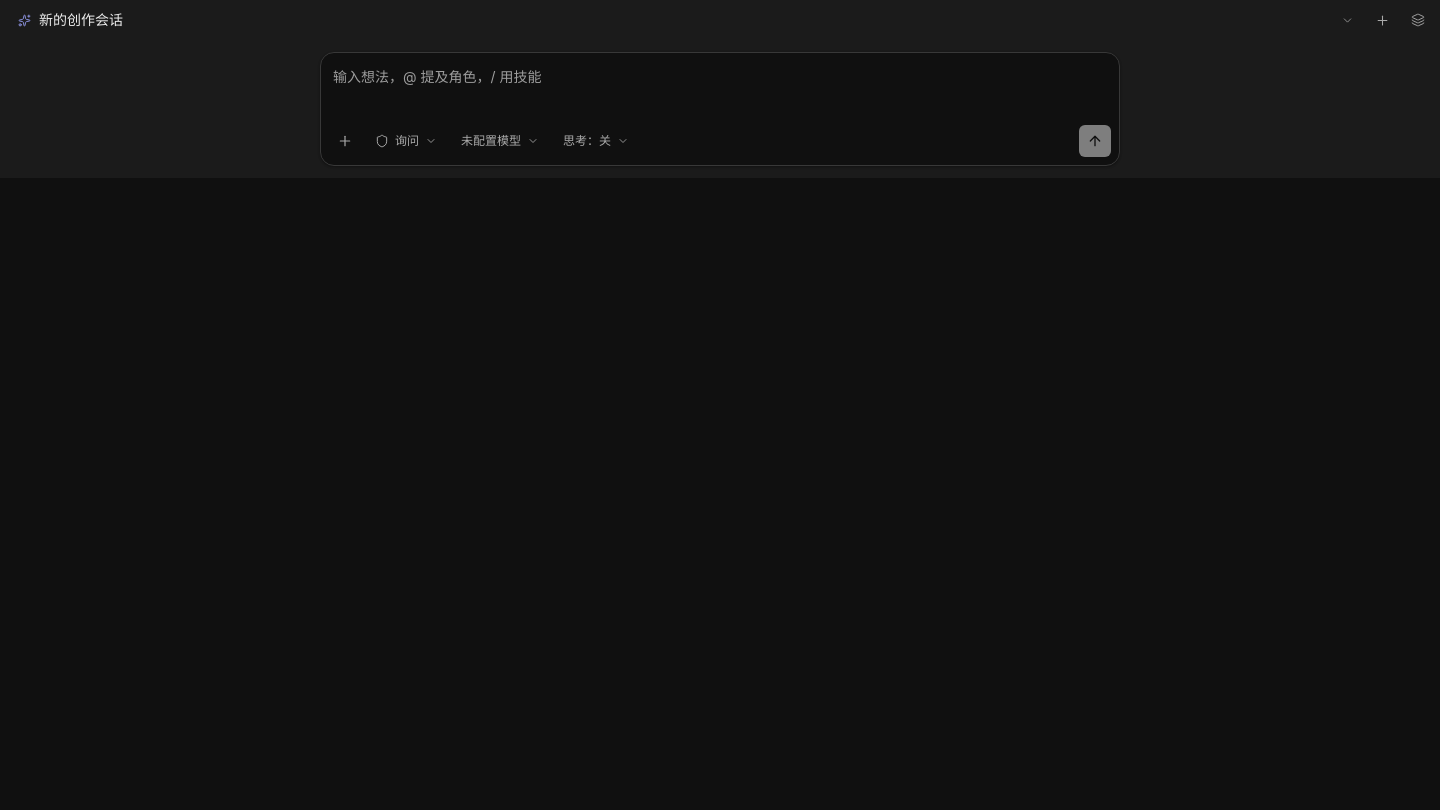
Test: 对话头的「上下文」按钮弹出小浮窗，不插进对话；再点、点外面、Esc 都收起
Step 1. Click the button named "上下文" → (1418, 20), box [1404,6,1432,34]
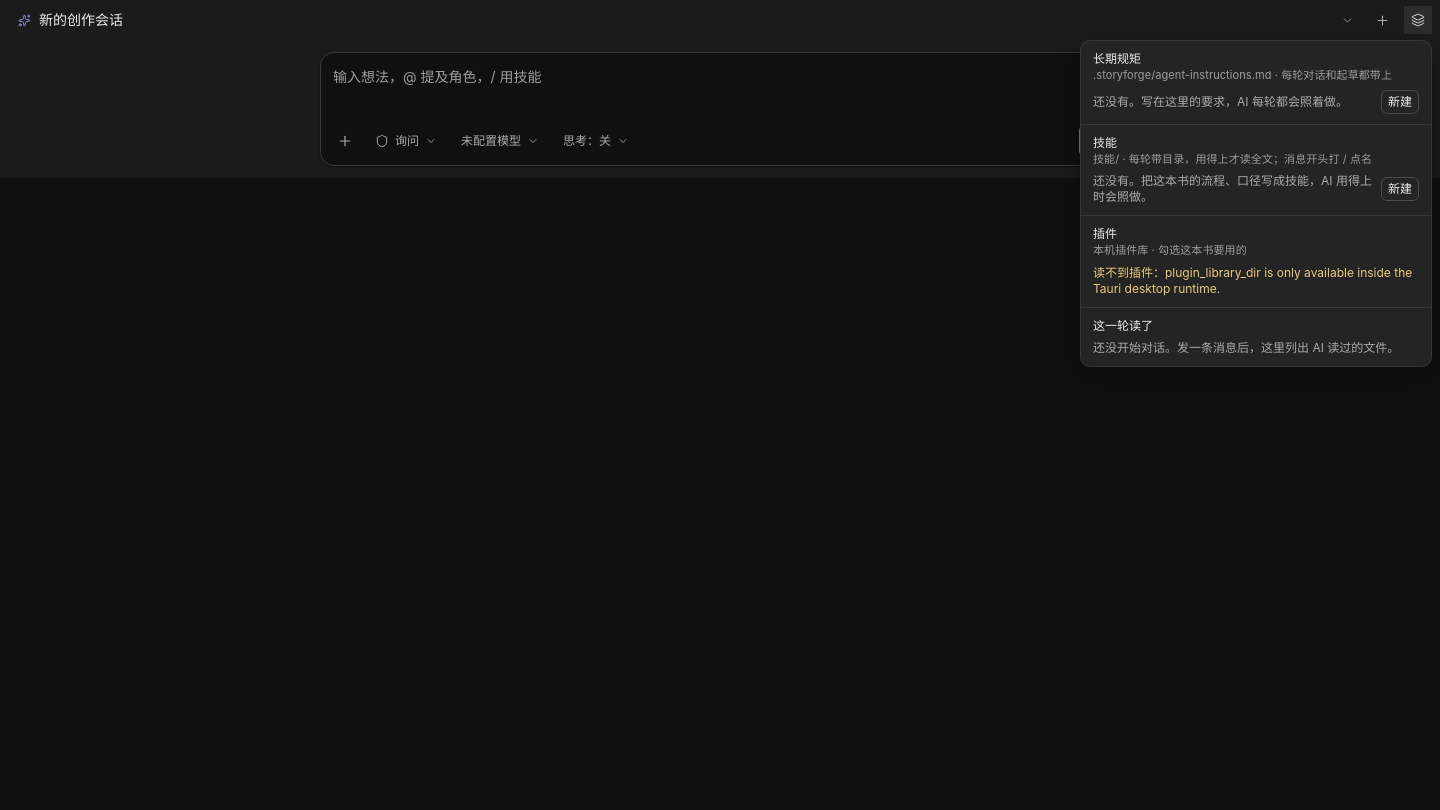
Now the text with test id "context-run-reads-empty" shows "还没开始对话", box [1093,340,1399,354]
Step 2. Click the button named "收起上下文" → (1418, 20), box [1404,6,1432,34]
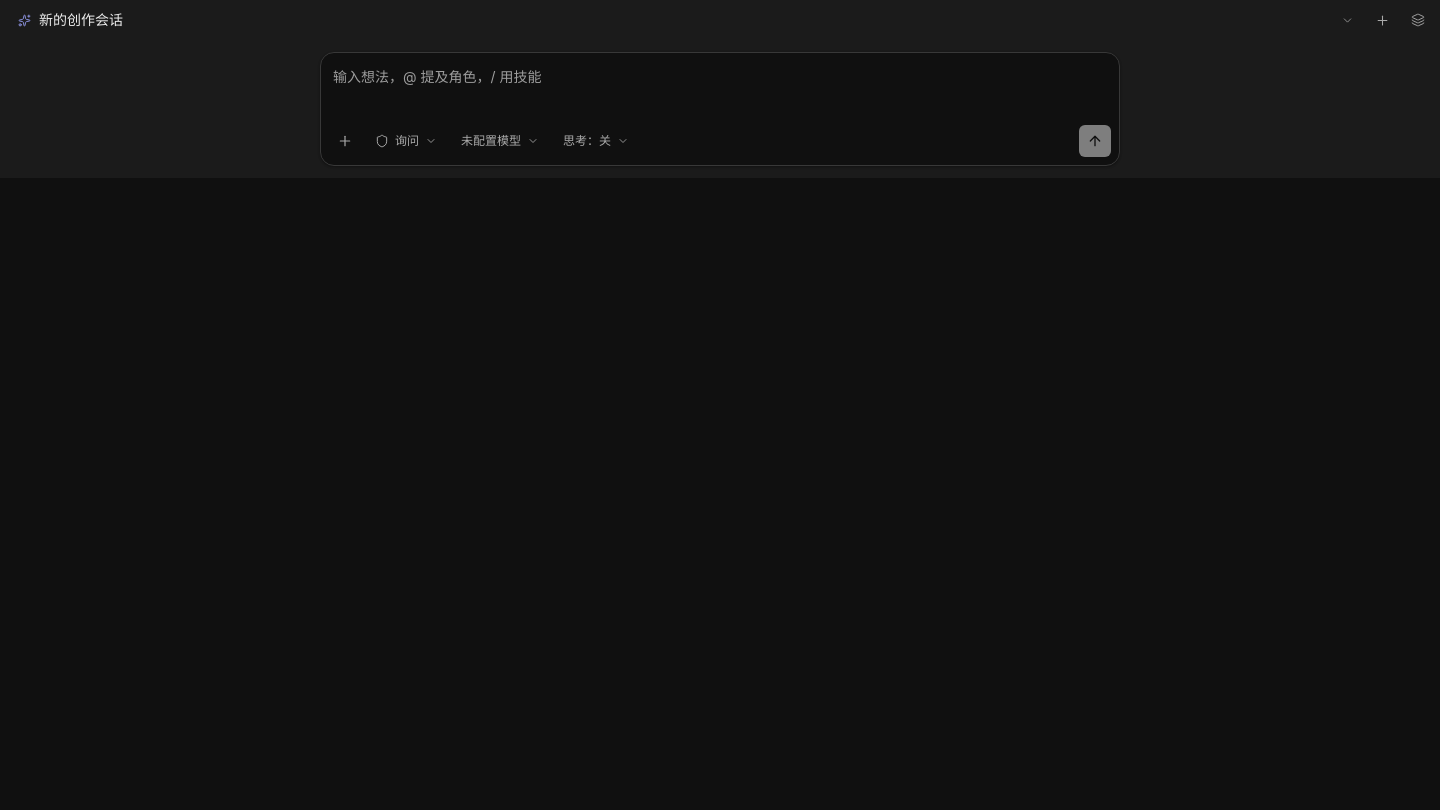
Now the element with test id "context-panel" is gone
Step 3. Click the button named "上下文" → (1418, 20), box [1404,6,1432,34]
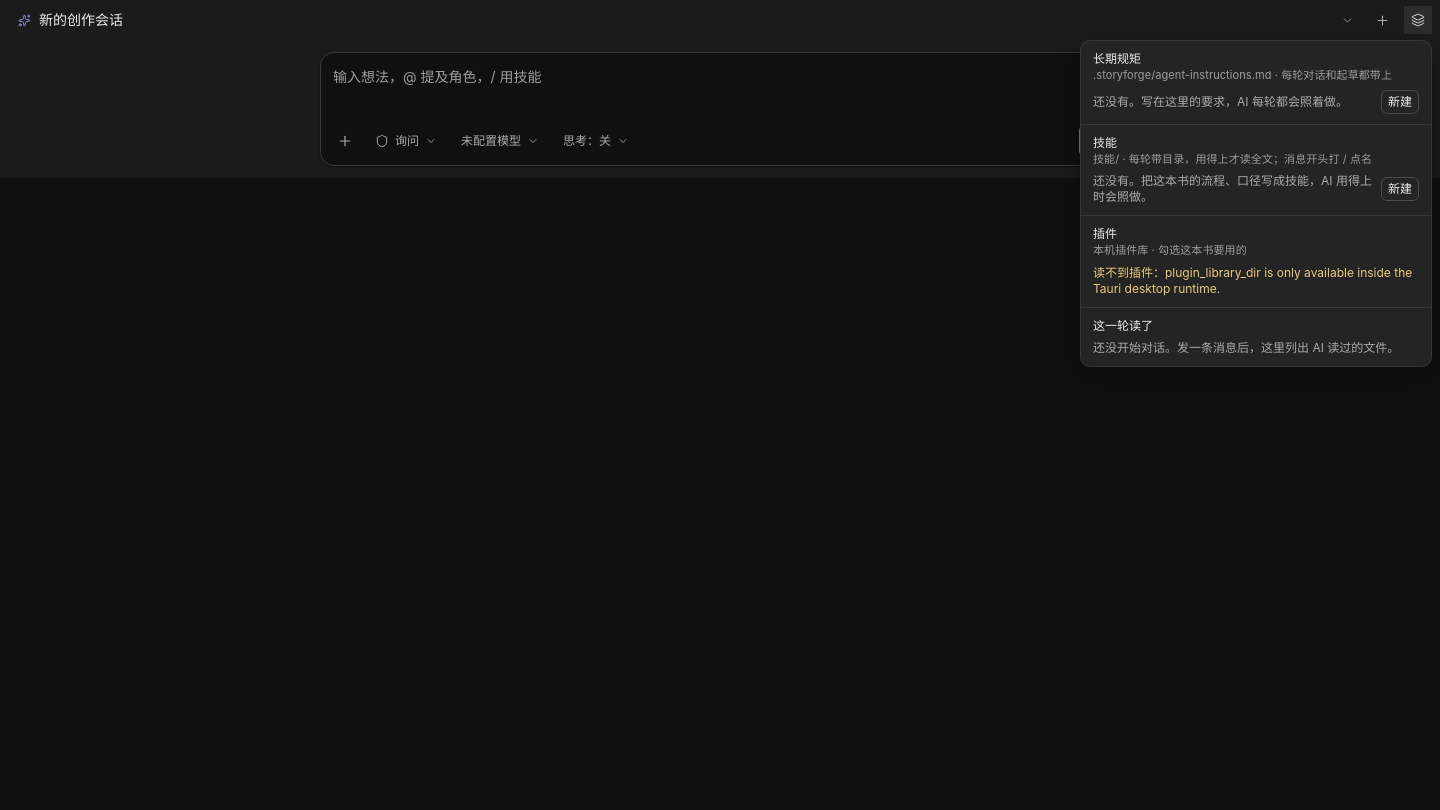
Step 4. Press the mouse on the element showing "新的创作会话 询问 未配置模型 思考：关" → (720, 89), box [0,0,1439,178]
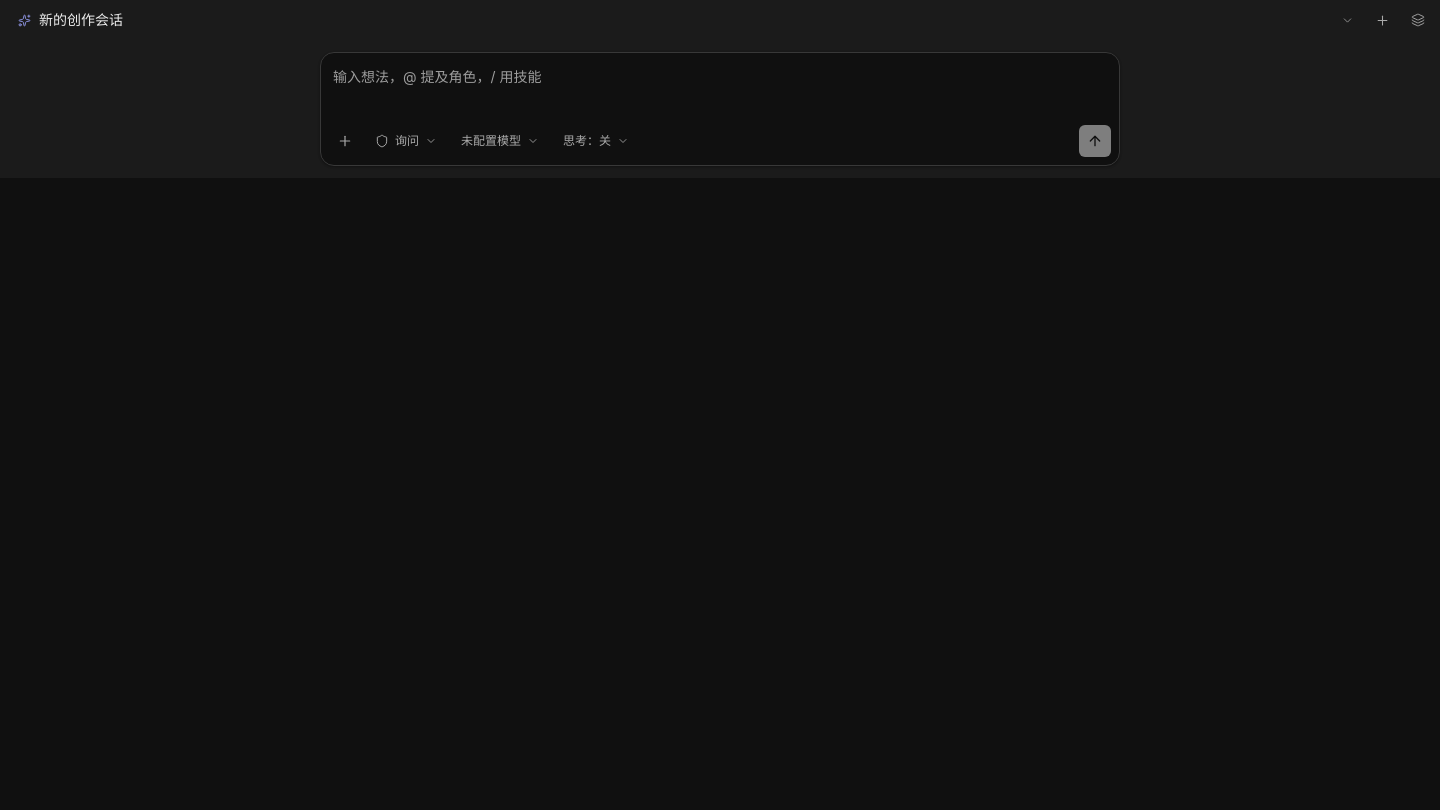
Now the element with test id "context-panel" is gone
Step 5. Click the button named "上下文" → (1418, 20), box [1404,6,1432,34]
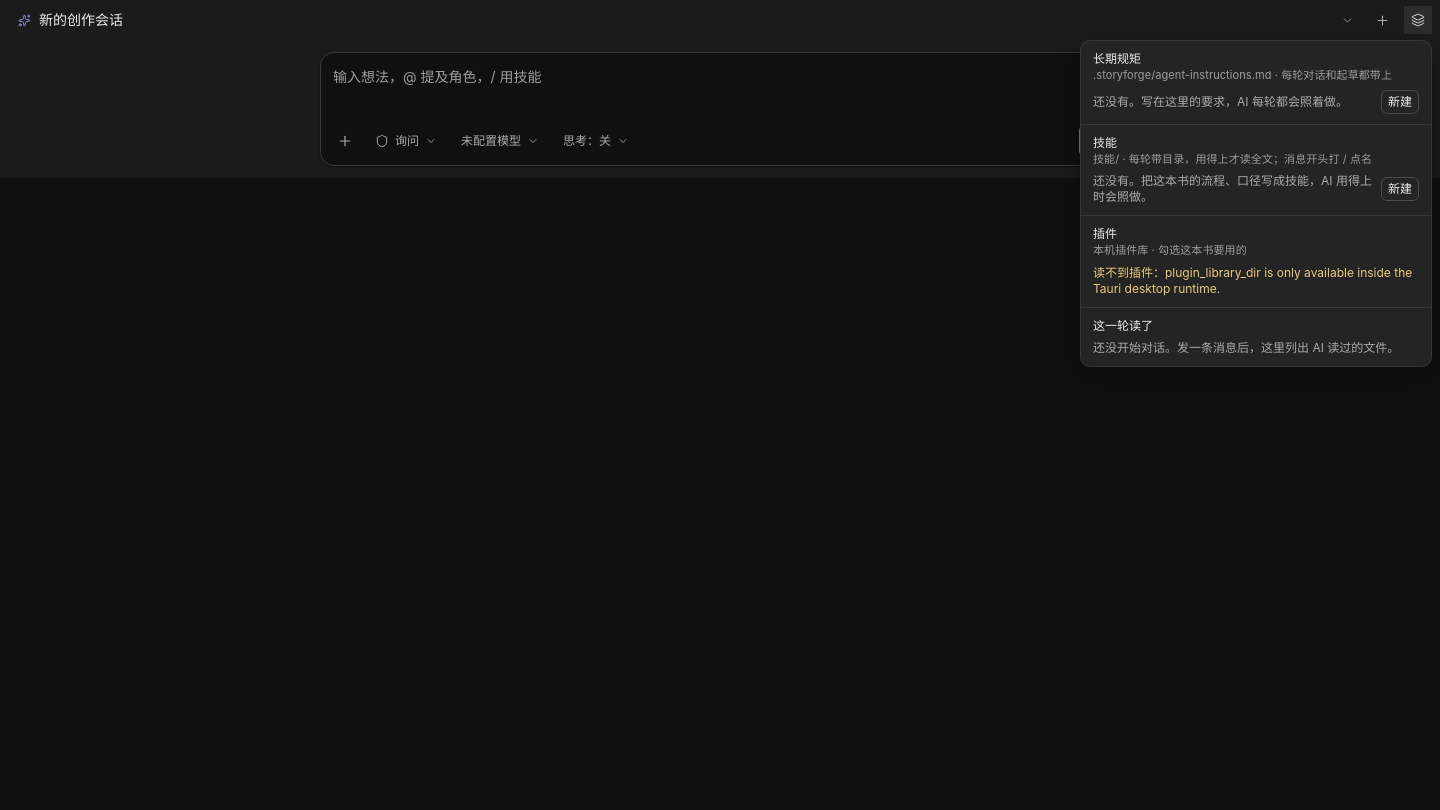
Step 6. Press Escape
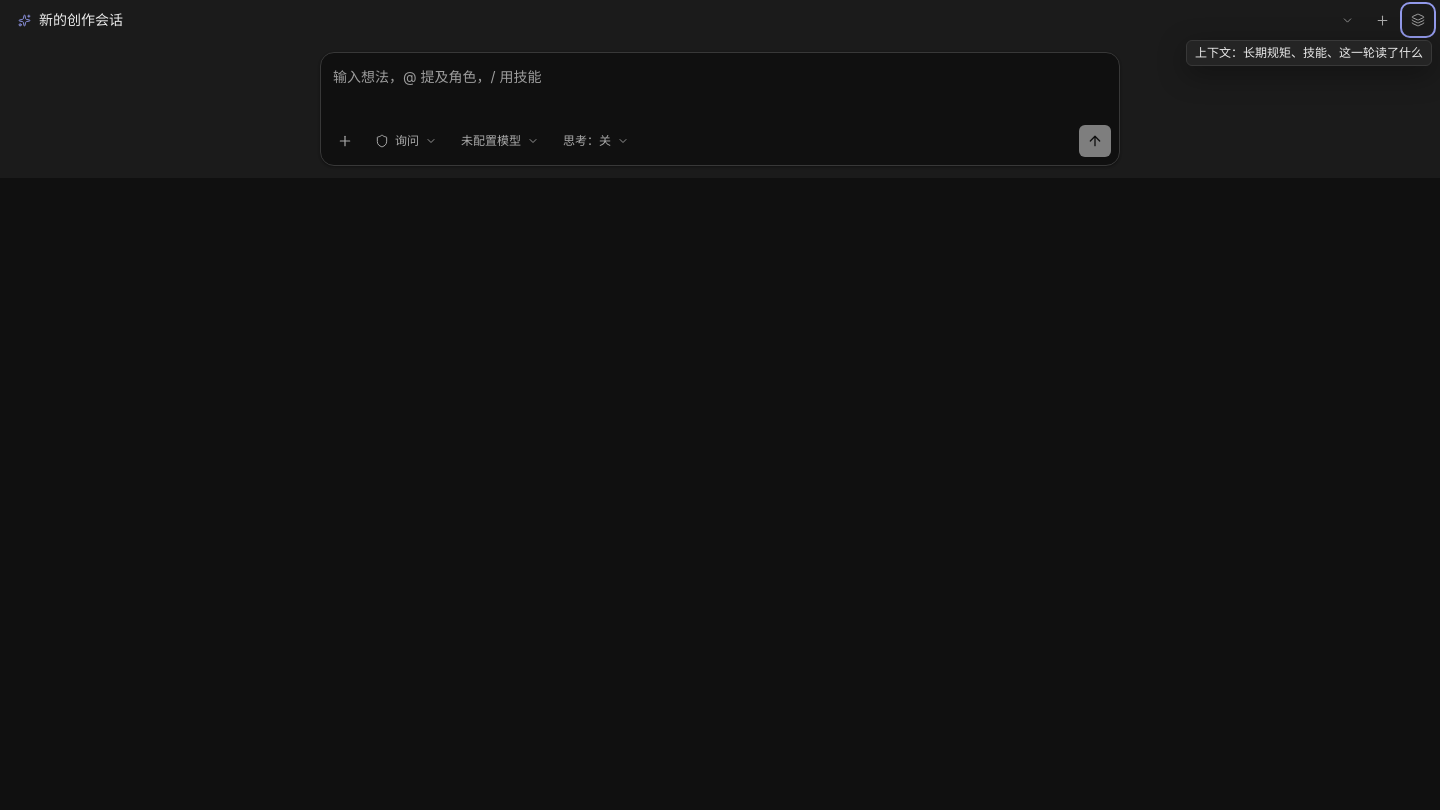
Now the element with test id "context-panel" is gone
